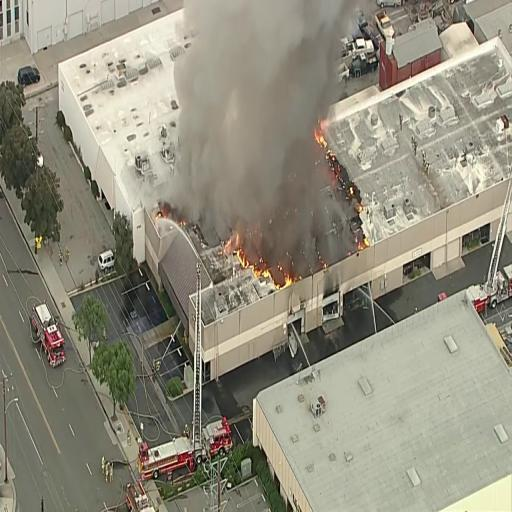smoke: (214, 0, 353, 167)
